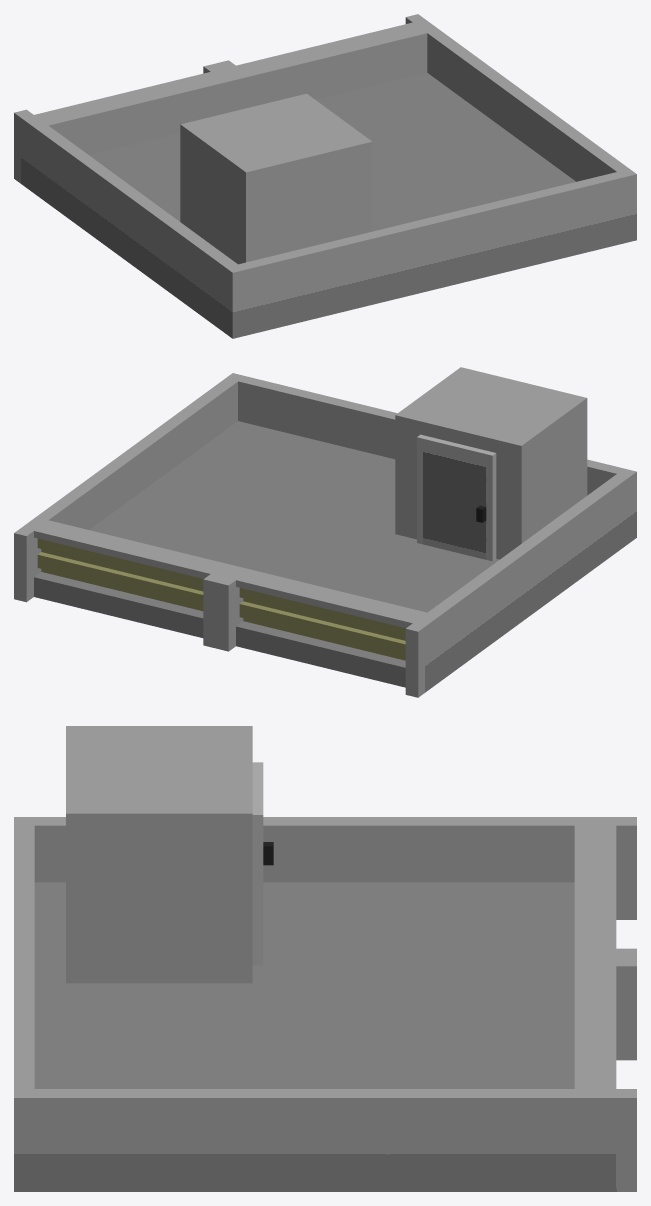
The model's file is obj_story04d.fbx.
3 renders of one model, top to bottom at view 1: azimuth 30°, elevation 25°; view 2: azimuth 150°, elevation 25°; view 3: azimuth 270°, elevation 25°, orthographic. The views are drawn at different scales.
Parts seen in each view (by area): view 1: obj_story04d; view 2: obj_story04d; view 3: obj_story04d.
Part boxes in pixels (x1=…): obj_story04d: x1=14, y1=14, x2=636, y2=338; obj_story04d: x1=14, y1=367, x2=636, y2=697; obj_story04d: x1=14, y1=726, x2=636, y2=1191.
Size of the model in its own units: 6.4 by 6 by 2.2.
Materials: 1 (1 with a texture image).
